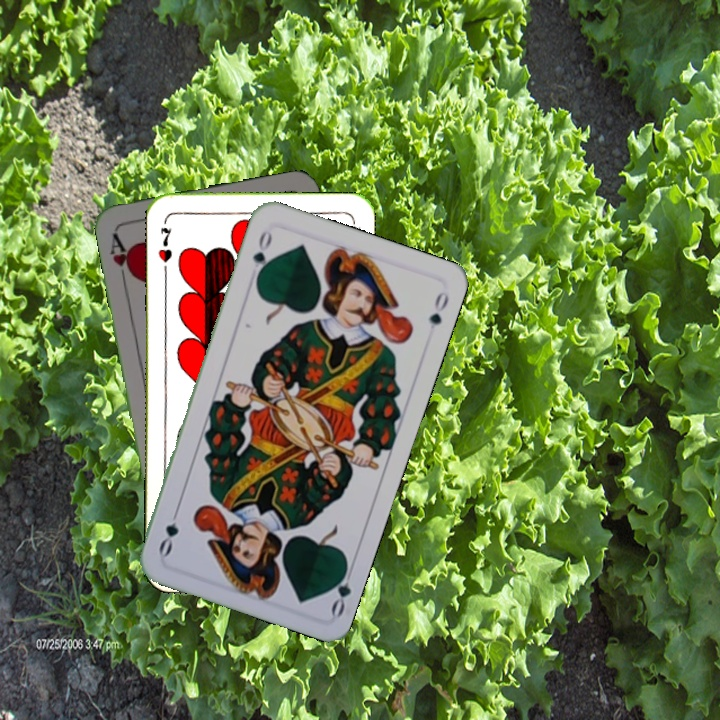GO: (325, 559, 357, 619), (248, 226, 275, 283)
H7: (154, 224, 174, 265)
HA: (106, 228, 138, 286)
